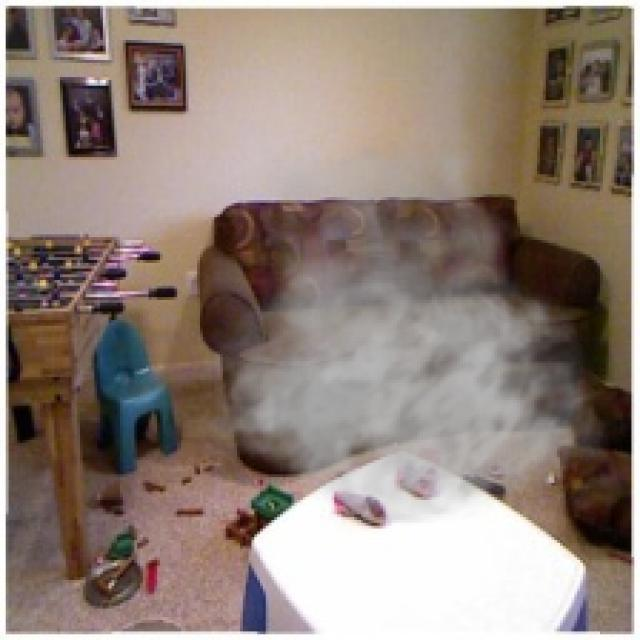Smoke: (182, 111, 608, 526)
